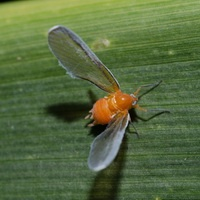insect: (48, 25, 160, 170)
